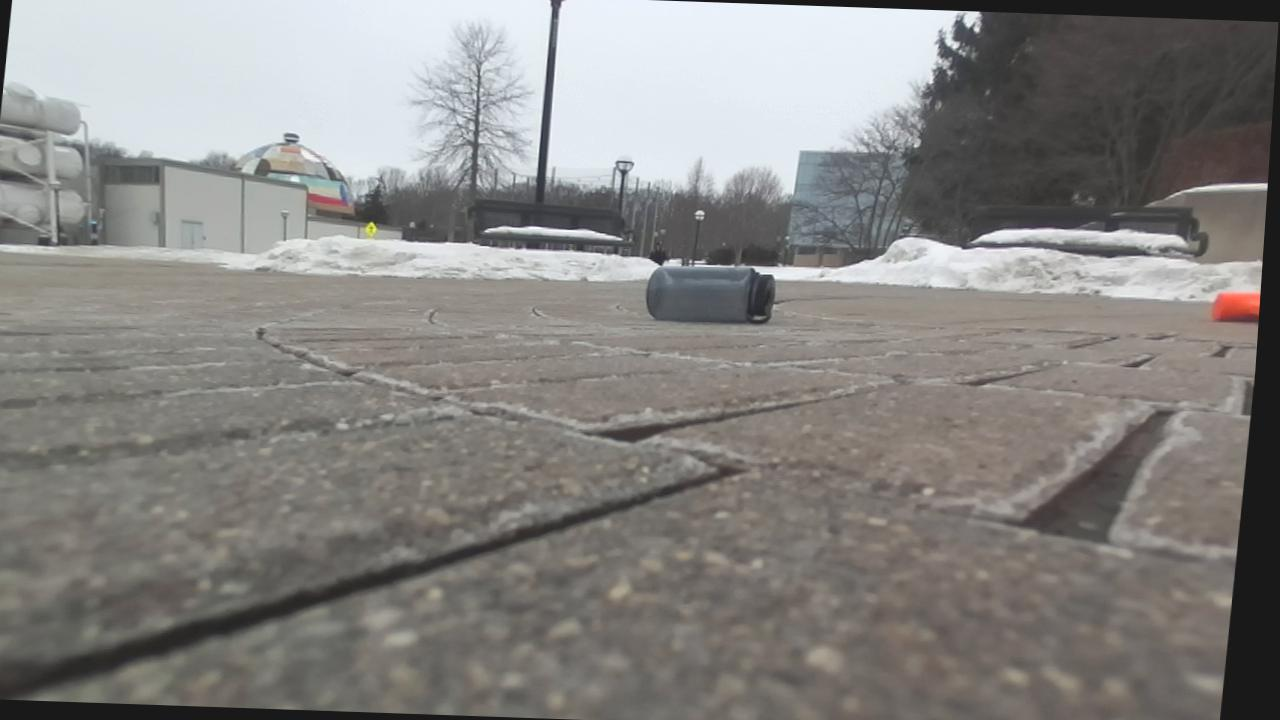bottle: (646, 266, 775, 323)
